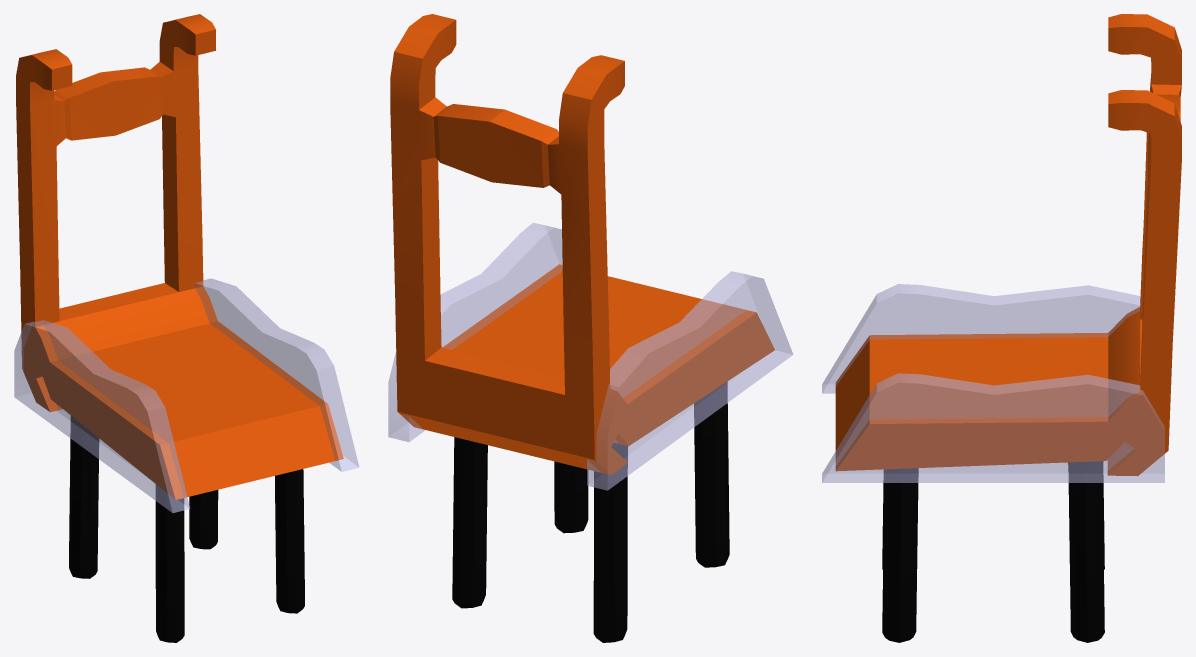
The model's file is chair10.fbx.
3 renders of one model, left to right at view 1: azimuth 30°, elevation 25°; view 2: azimuth 150°, elevation 25°; view 3: azimuth 270°, elevation 25°, orthographic. The views are drawn at different scales.
Parts seen in each view (by area): view 1: Chair10; view 2: Chair10; view 3: Chair10.
Boxes of the visible parts, x1=… form: Chair10: x1=14, y1=14, x2=358, y2=642; Chair10: x1=388, y1=14, x2=793, y2=642; Chair10: x1=822, y1=14, x2=1181, y2=642.
Size of the model in its own units: 38.67 by 100 by 59.57.
